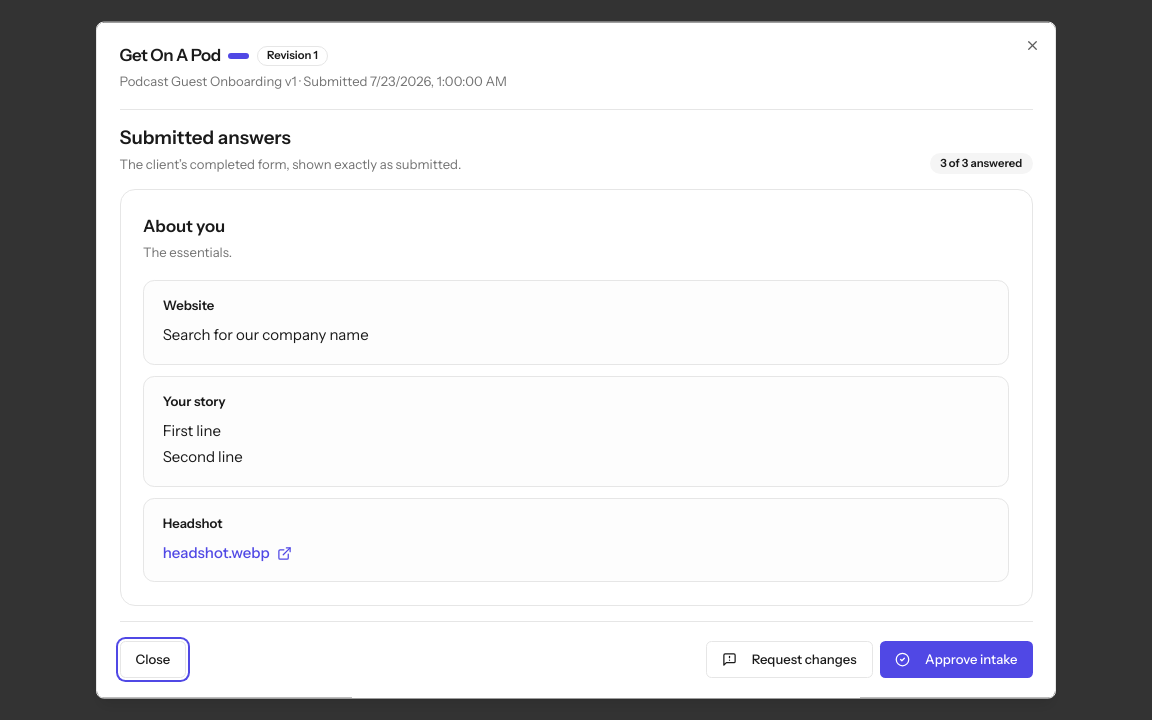
Test case: OnboardingReviewDialog › will not send an empty request
This screenshot has width=1152, height=720.
Click the button "Request changes": coordinates (789, 659) top-left (706, 640), bottom-right (873, 678)
(page scrolled)
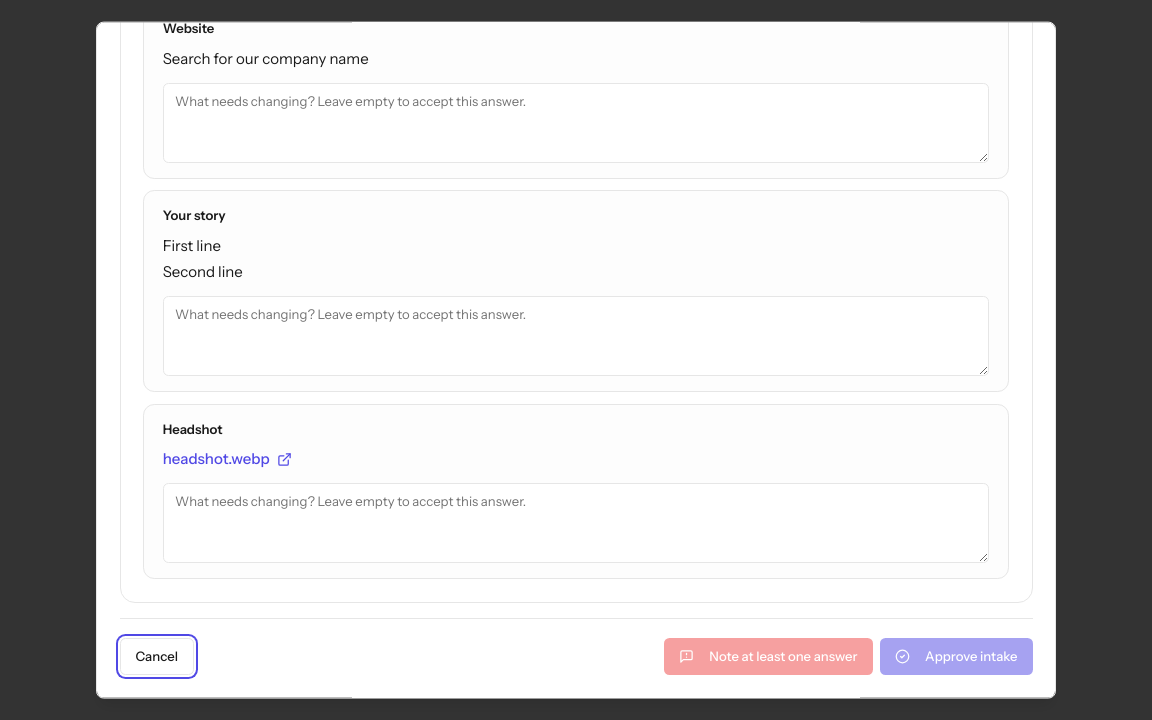
Expected: the button "Note at least one answer" is disabled, top-left (664, 637), bottom-right (873, 675)
